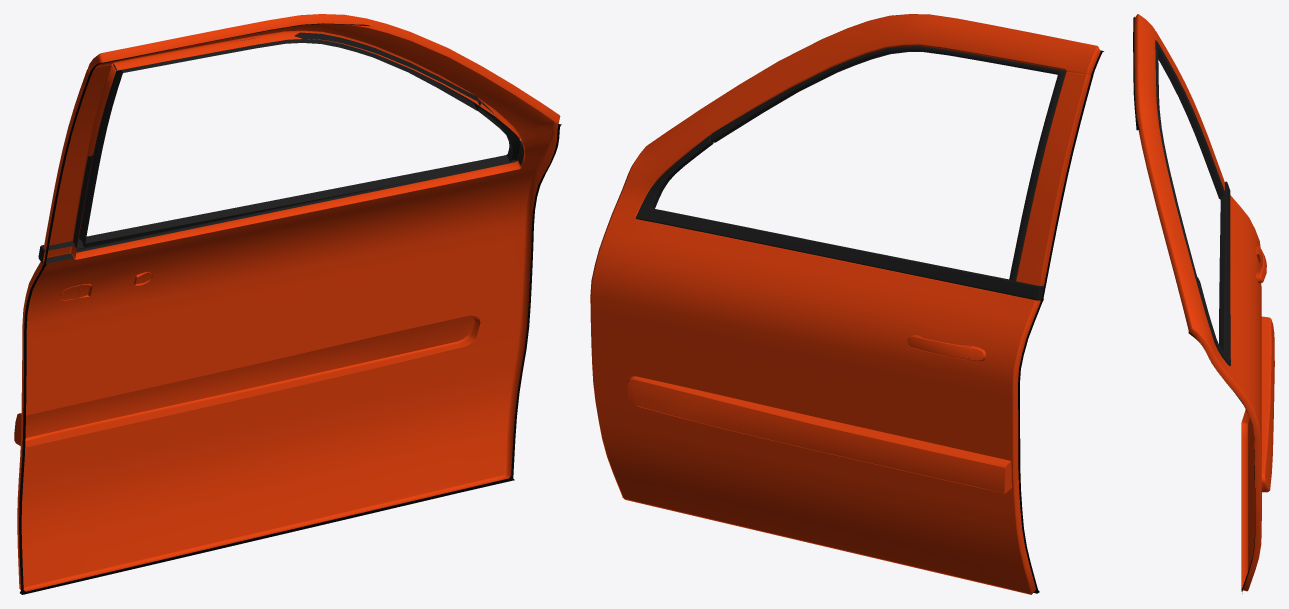
The picture shows the model from 3 angles, left to right: view 1: azimuth 30°, elevation 25°; view 2: azimuth 150°, elevation 25°; view 3: azimuth 270°, elevation 25°; orthographic projection. The views are drawn at different scales.
Parts seen in each view (by area): view 1: U843_9A_261B_L_U843_9A_261B_L_1_DaS, U843_9A_261B_L_U843_9A_261B_L_1_DaS_E, U843_9A_261B_L_3_D_U843_9A_261B_L, U843_9A_261B_L_U843_9A_261B_L_4_D; view 2: U843_9A_261B_L_U843_9A_261B_L_1_DaS, U843_9A_261B_L_U843_9A_261B_L_1_DaS_E, U843_9A_261B_L_3_D_U843_9A_261B_L, U843_9A_261B_L_U843_9A_261B_L_4_D; view 3: U843_9A_261B_L_U843_9A_261B_L_1_DaS, U843_9A_261B_L_U843_9A_261B_L_1_DaS_E, U843_9A_261B_L_3_D_U843_9A_261B_L, U843_9A_261B_L_U843_9A_261B_L_4_D.
Part boxes in pixels (box(x1,y1,x2,y2)): U843_9A_261B_L_U843_9A_261B_L_1_DaS: box(21, 24, 553, 587); U843_9A_261B_L_U843_9A_261B_L_1_DaS_E: box(14, 14, 560, 591); U843_9A_261B_L_3_D_U843_9A_261B_L: box(38, 32, 524, 264); U843_9A_261B_L_U843_9A_261B_L_4_D: box(19, 23, 561, 594); U843_9A_261B_L_U843_9A_261B_L_1_DaS: box(591, 14, 1096, 593); U843_9A_261B_L_U843_9A_261B_L_1_DaS_E: box(590, 14, 1100, 594); U843_9A_261B_L_3_D_U843_9A_261B_L: box(635, 46, 1066, 300); U843_9A_261B_L_U843_9A_261B_L_4_D: box(622, 50, 1103, 593); U843_9A_261B_L_U843_9A_261B_L_1_DaS: box(1138, 14, 1271, 570); U843_9A_261B_L_U843_9A_261B_L_1_DaS_E: box(1134, 14, 1274, 591); U843_9A_261B_L_3_D_U843_9A_261B_L: box(1155, 40, 1230, 365); U843_9A_261B_L_U843_9A_261B_L_4_D: box(1133, 17, 1255, 593).
Bounding box in the file's own units: 109 × 119 × 36.86.
